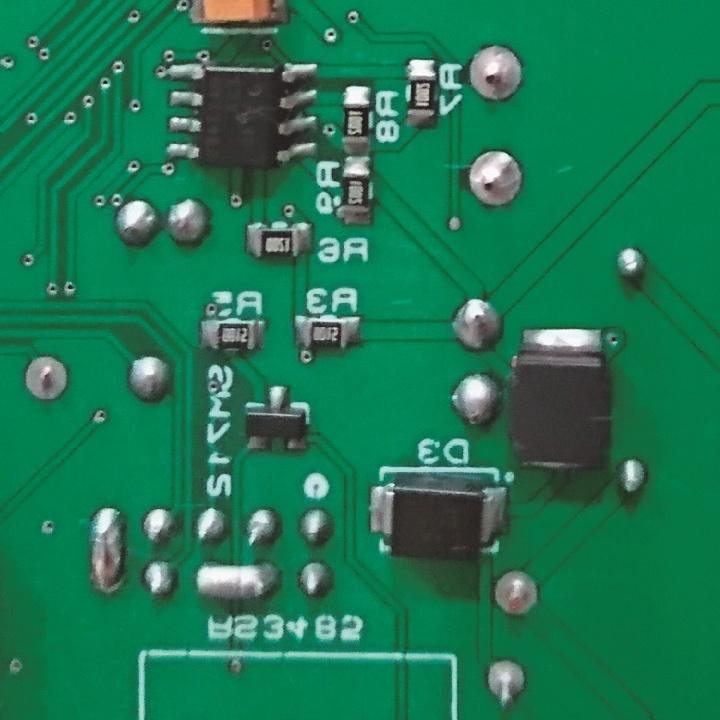F: (463, 40, 525, 108), (464, 146, 523, 207), (20, 352, 71, 405), (491, 568, 540, 621), (484, 655, 528, 710)
P: (194, 555, 284, 610), (83, 504, 125, 601)
